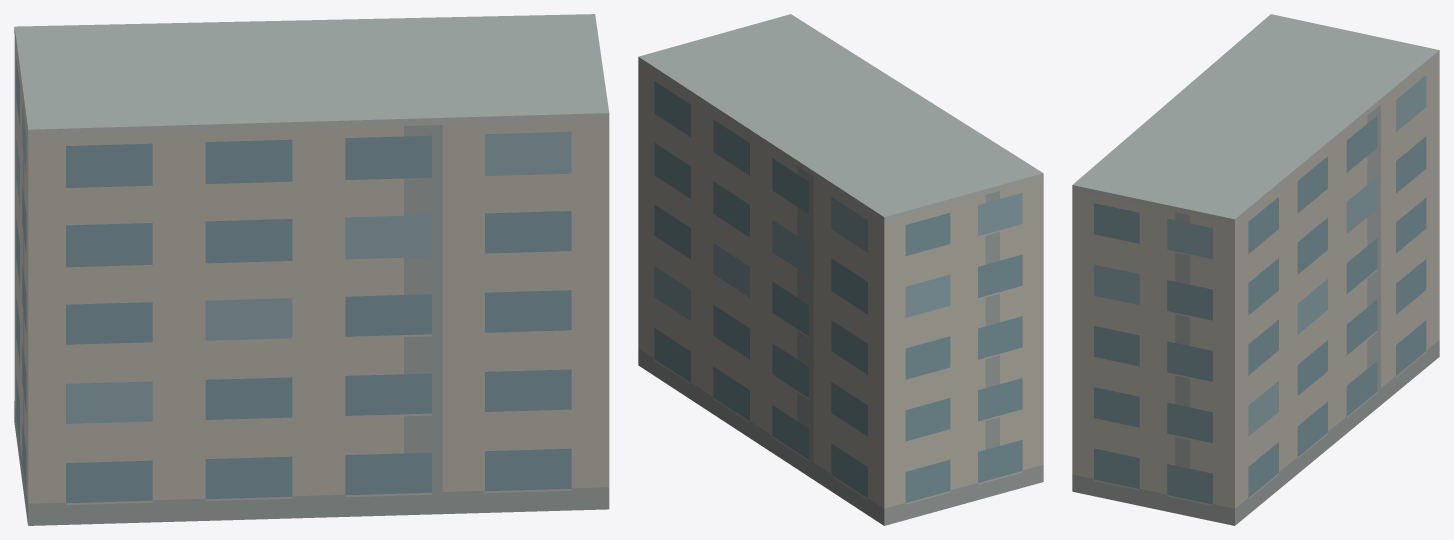
File: survey-upis-32894255.glb
The picture shows the model from 3 angles, left to right: view 1: azimuth 30°, elevation 25°; view 2: azimuth 150°, elevation 25°; view 3: azimuth 270°, elevation 25°; orthographic projection. The views are drawn at different scales.
Parts seen in each view (by area): view 1: survey-upis-32894255.tmp; view 2: survey-upis-32894255.tmp; view 3: survey-upis-32894255.tmp.
Boxes of the visible parts, left/top/right/bottom form: survey-upis-32894255.tmp: left=14, top=14, right=609, bottom=525; survey-upis-32894255.tmp: left=638, top=14, right=1043, bottom=525; survey-upis-32894255.tmp: left=1072, top=14, right=1439, bottom=525.
Bounding box in the file's own units: 19.39 × 13.5 × 14.67.
